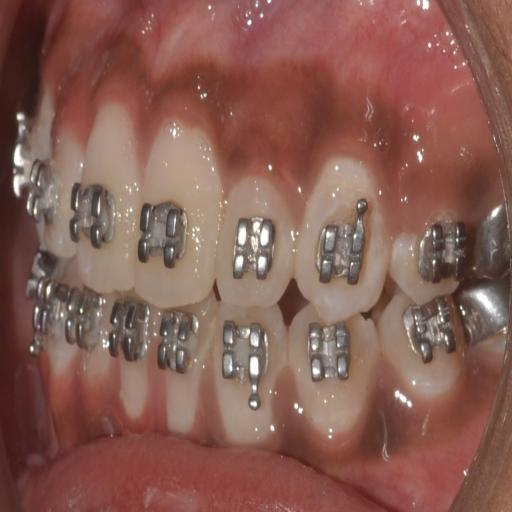correct_brace: (390, 206, 463, 303), (310, 197, 373, 297), (231, 204, 280, 291), (140, 195, 192, 272), (70, 179, 117, 257)
incorrect_brace: (219, 172, 292, 308), (417, 222, 463, 294)
